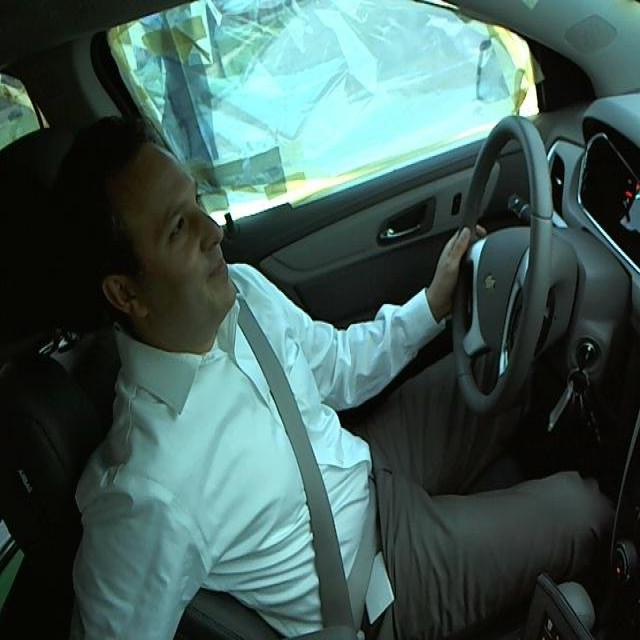seatbelt: (235, 318, 389, 622)
